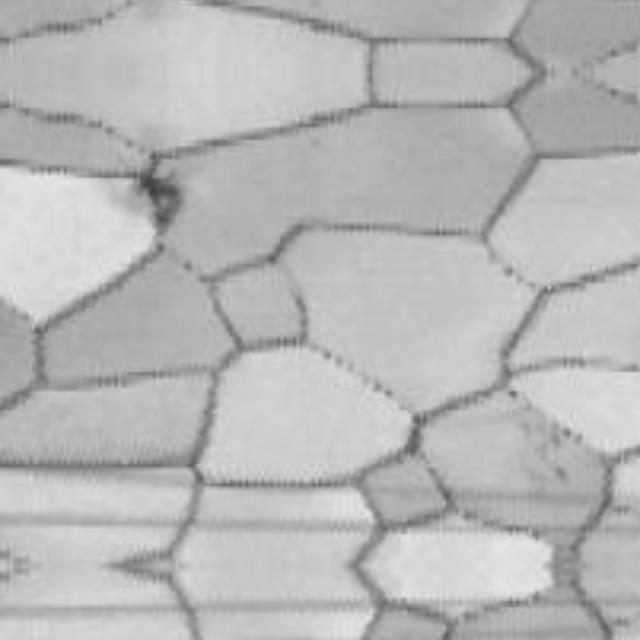good_void: (135, 170, 188, 235)
